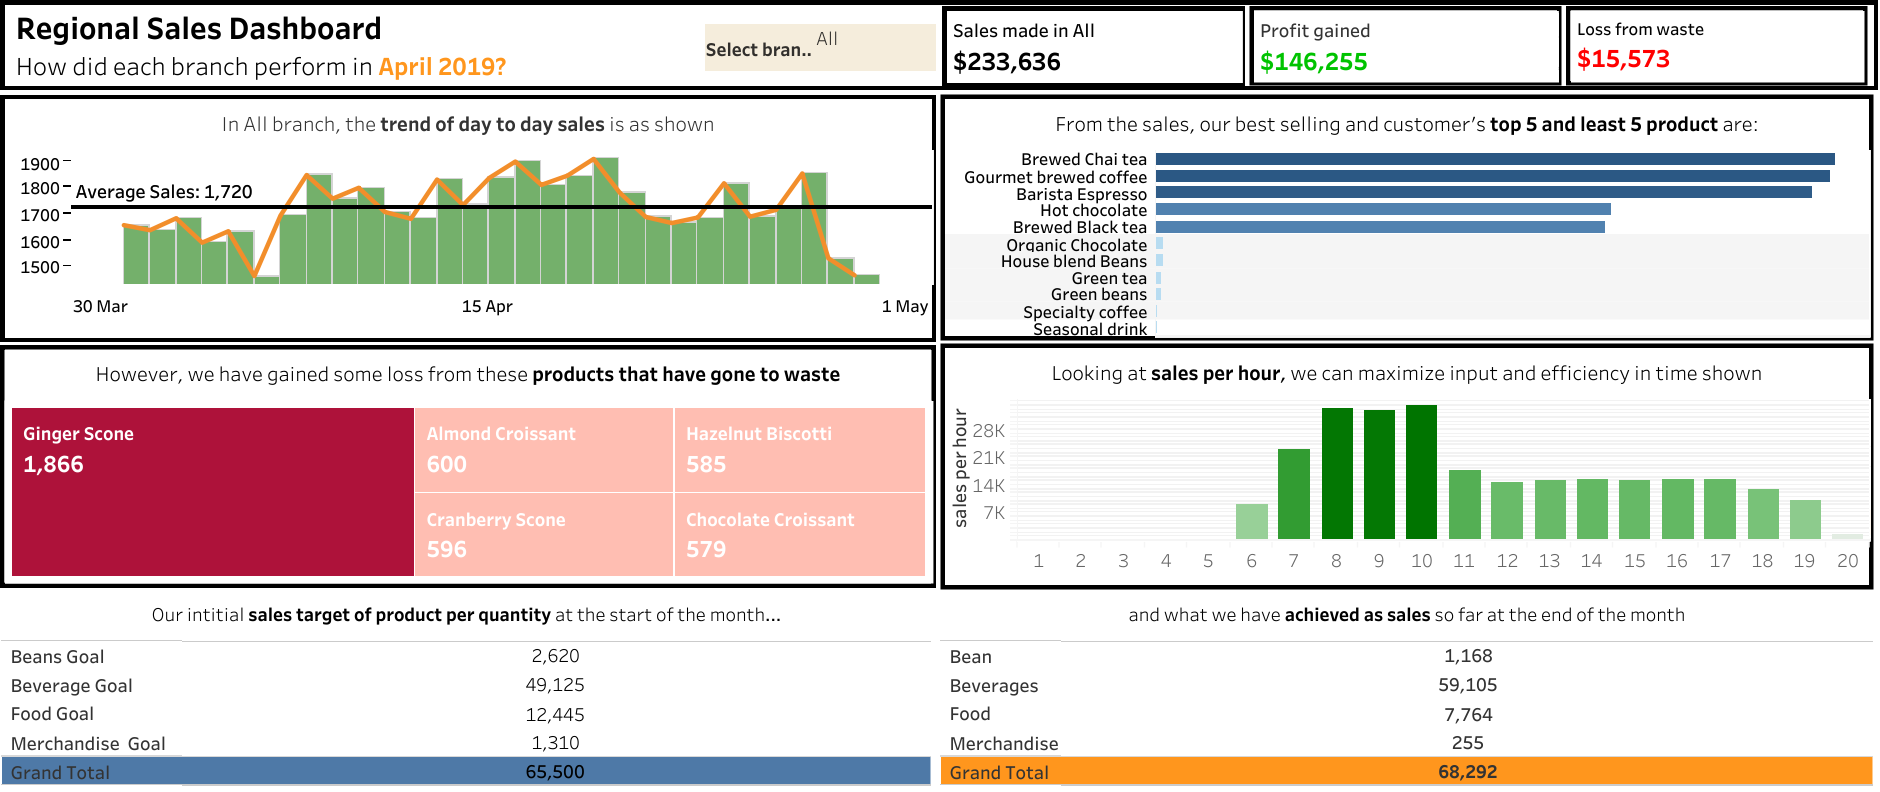

This screenshot's page, from the dashboard's own definition file:
{"tool":"tableau","page":{"name":"Dashboard 1","canvas":[1000,1000],"units":"permille","ordinal":0},"visuals":[{"type":"blank","box":[0,0,998.1,119.6]},{"type":"worksheet","title":"Ban Store total sales revenue","mark":"Text","box":[500.5,6.8,161.5,101.4]},{"type":"worksheet","title":"Profit final","mark":"Automatic","box":[664.6,6.8,165.2,100.2]},{"type":"worksheet","title":"Loss from waste final","mark":"Automatic","box":[832.3,8,160.8,99.1]},{"type":"parameter","param":"[Parameters].[Parameter 2]","box":[375.1,29.6,122.7,59.2]},{"type":"worksheet","title":"Sales per day","mark":"Automatic","rows":["Calculation_635289051666067456","Calculation_635289051666067456"],"cols":["Calculation_635289051668721665"],"box":[0,118.5,497.3,312.1]},{"type":"worksheet","title":"Best selling products ","mark":"Automatic","rows":["product_type"],"cols":["Calculation_830632685832159239"],"box":[500,118.5,496.3,310.9]},{"type":"worksheet","title":"Sales per hour ","mark":"Bar","rows":["Calculation_542402309820248064"],"cols":["transaction_time"],"box":[500,432.8,496.3,309.8]},{"type":"worksheet","title":"Loss from waste","mark":"Automatic","box":[0,433.9,497.5,307.5]},{"type":"worksheet","title":"Sales per unit goal","mark":"Automatic","rows":["Pivot Field Names"],"box":[0.6,744.9,494.4,246]},{"type":"worksheet","title":"Current Sales per unit","mark":"Automatic","rows":["product_group"],"box":[500,744.9,495.6,246]}]}

Visuals, with their boxes on the dashboard's canvas, which has no fixed pixel size, in thousandths of its width and height (x1, y1, x2, y2). These are canvas units, not pixel positions in the 1880x792 screenshot, which may show the page scaled, cropped or inside an application window:
blank: crop(0, 0, 998, 120)
"Ban Store total sales revenue" worksheet (Text marks): crop(500, 7, 662, 108)
"Profit final" worksheet: crop(665, 7, 830, 107)
"Loss from waste final" worksheet: crop(832, 8, 993, 107)
parameter: crop(375, 30, 498, 89)
"Sales per day" worksheet: crop(0, 118, 497, 431)
"Best selling products " worksheet: crop(500, 118, 996, 429)
"Sales per hour " worksheet (Bar marks): crop(500, 433, 996, 743)
"Loss from waste" worksheet: crop(0, 434, 498, 741)
"Sales per unit goal" worksheet: crop(1, 745, 495, 991)
"Current Sales per unit" worksheet: crop(500, 745, 996, 991)
